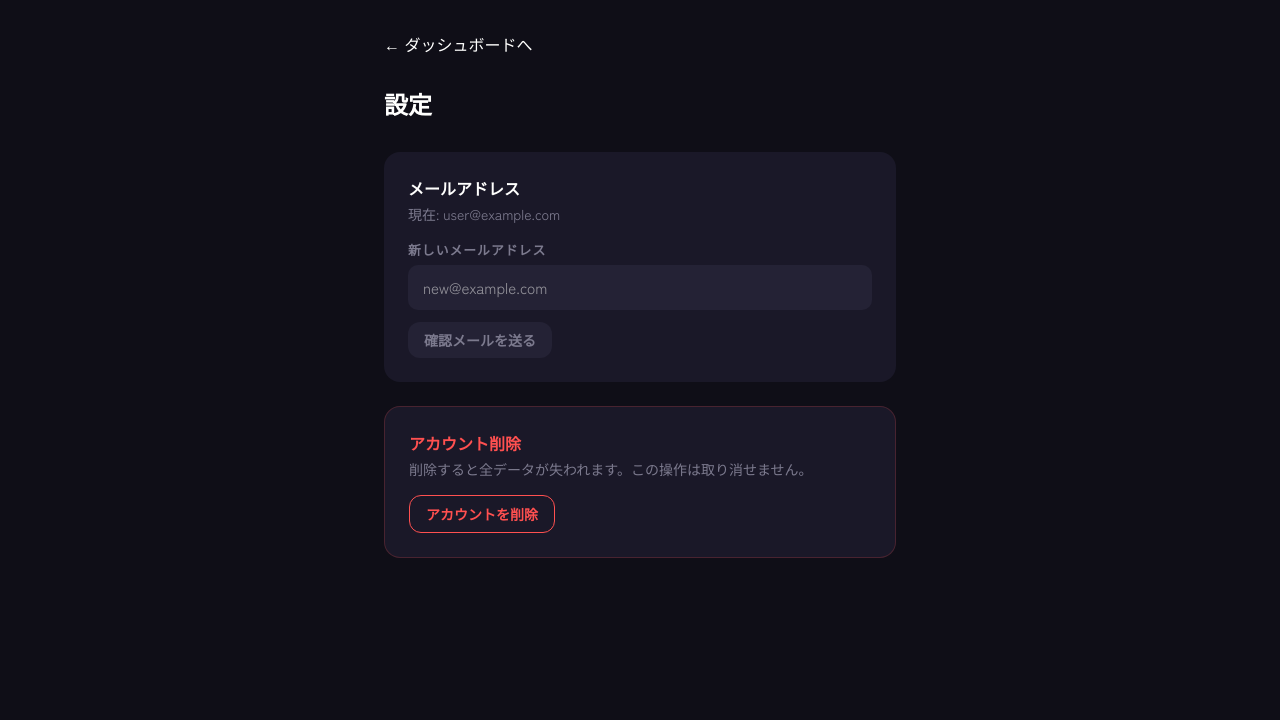
Test: SettingsPage - アカウント削除 › 確認ダイアログのキャンセルでダイアログが閉じる
Click the button "アカウントを削除" at (482, 514), box [409,495,555,533]
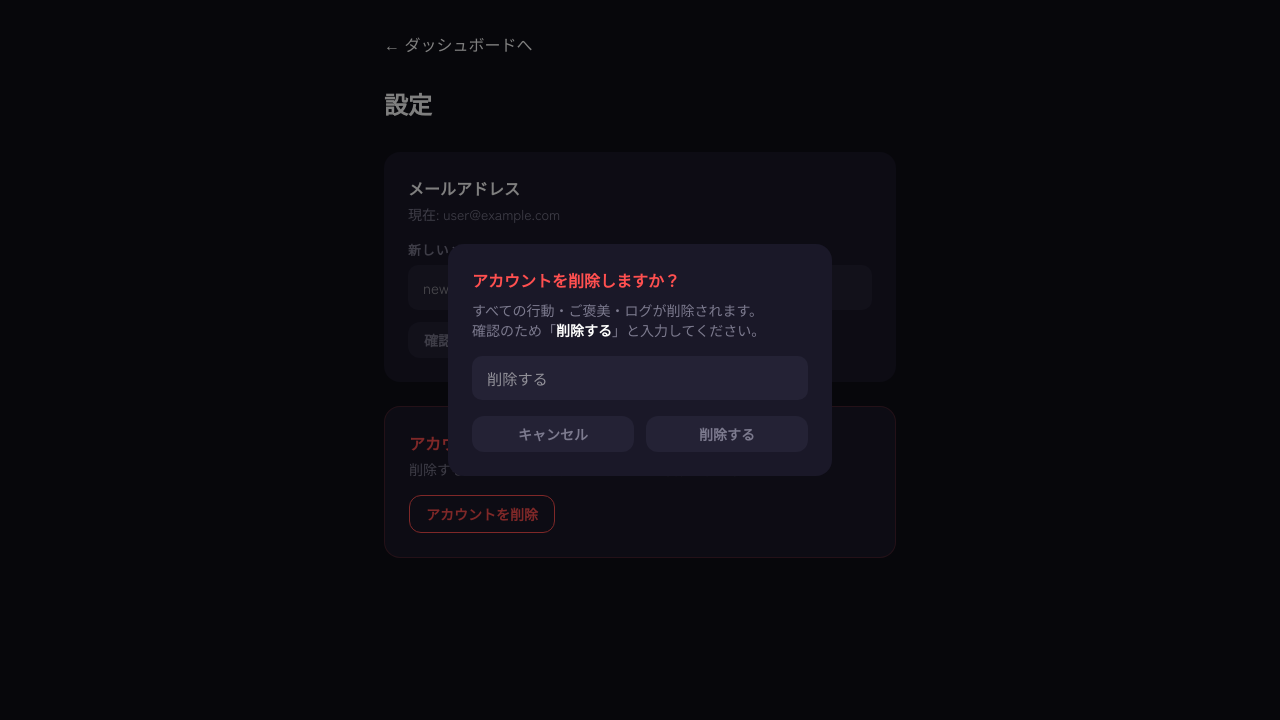
Click the button "キャンセル" at (553, 434), box [472,416,634,452]
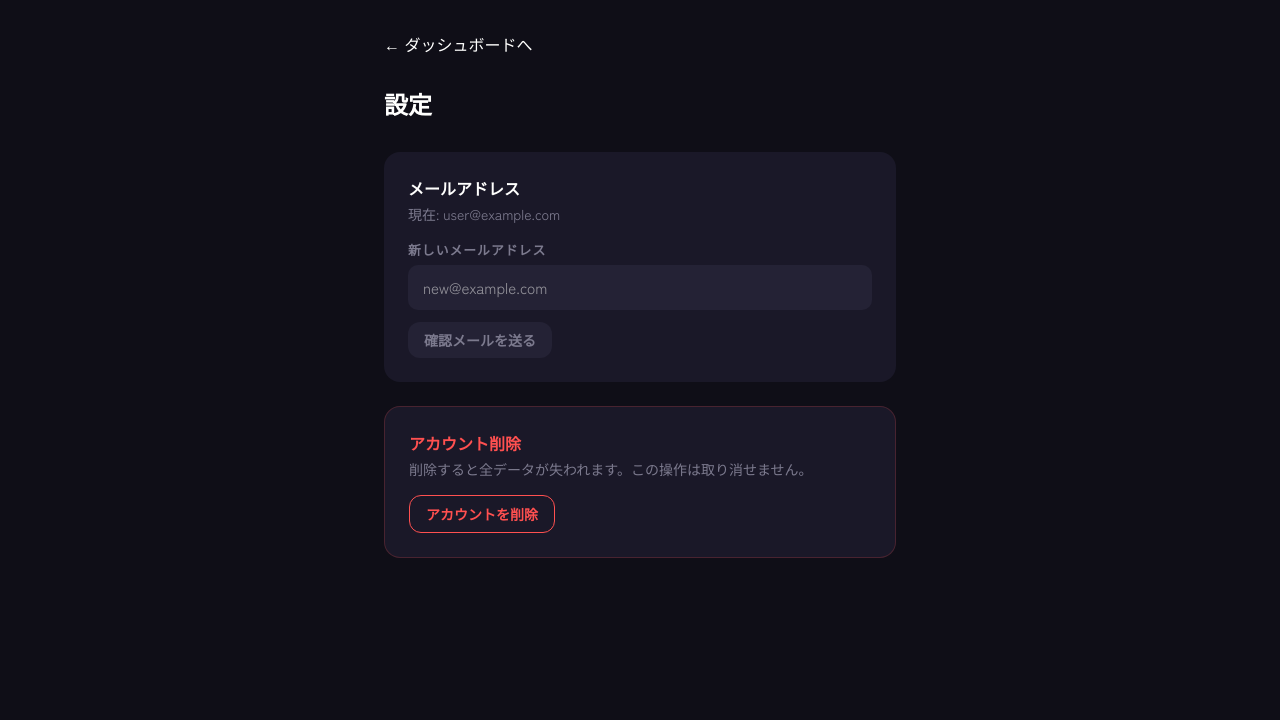
Result: the heading "アカウントを削除しますか？" is gone
